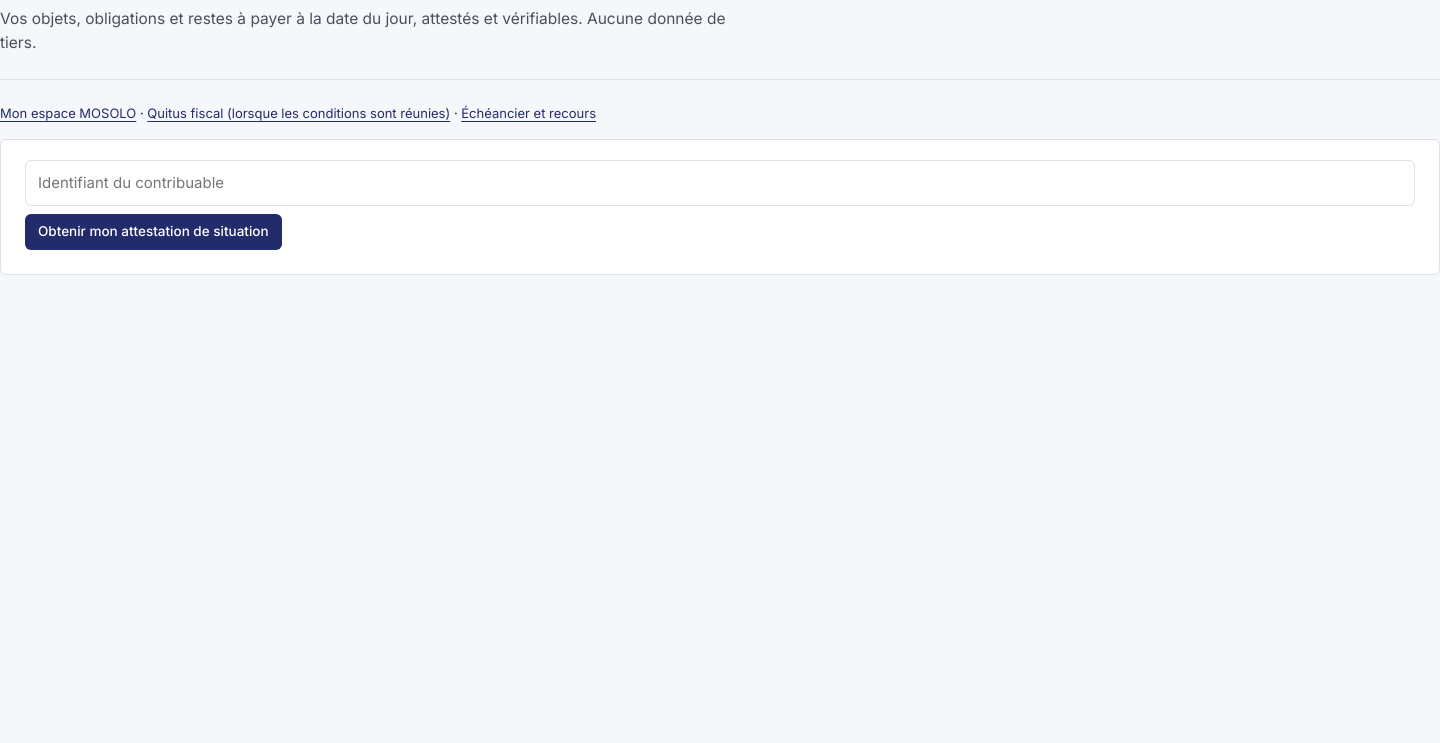
it: Module 3 — attestation de situation › émission et QR de vérification
Click the button "Obtenir mon attestation de situation" at (153, 232), box [25, 214, 282, 250]
(page scrolled)
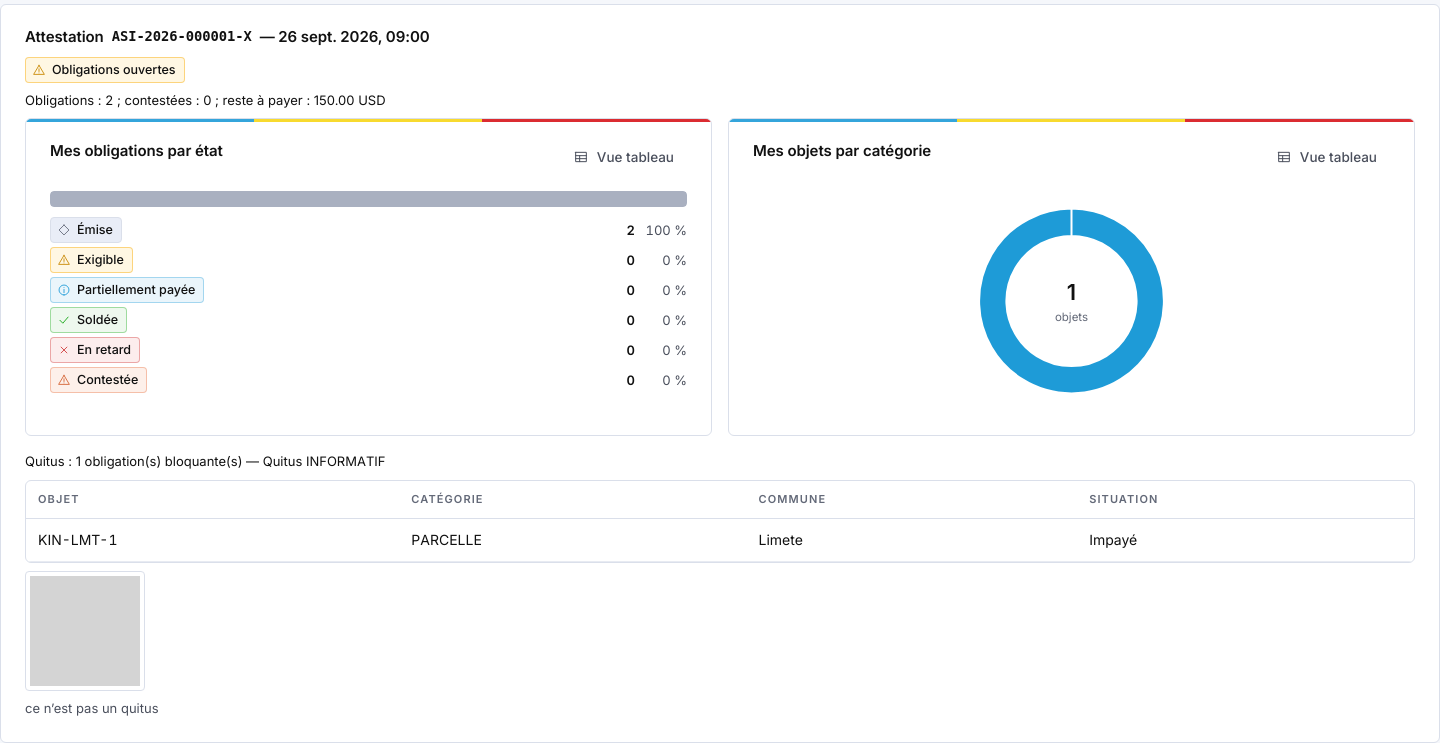
expect the text "Obligations ouvertes" is shown: met, box [52, 60, 176, 80]
expect the text "reste à payer : 150.00 USD" is shown: met, box [25, 92, 386, 108]
expect the text "KIN-LMT-1" is shown: met, box [26, 518, 399, 561]
